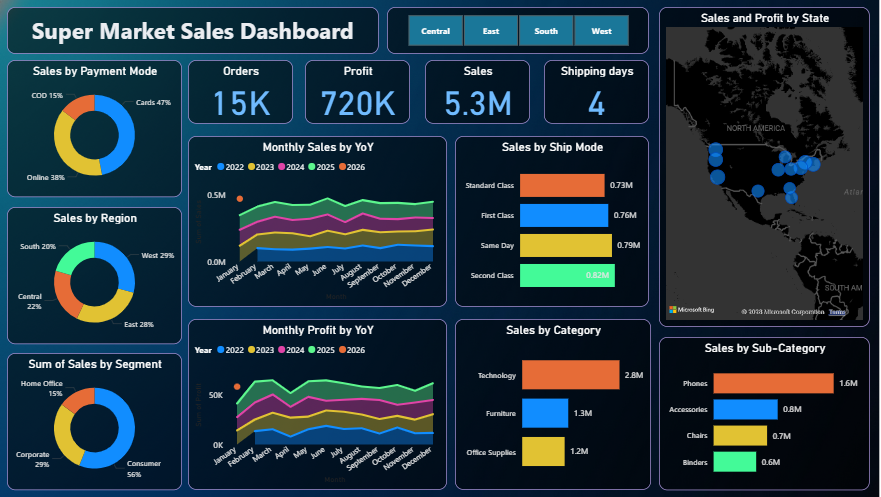

The dashboard page shown, as its layout file describes it:
{"tool":"powerbi","page":{"name":"Monthly View","canvas":[1280,720],"ordinal":0},"visuals":[{"type":"clusteredBarChart","title":"Sales by Category","fields":{"Category":["SuperStore_Sales_Realistic.Category"],"Y":["Sum(SuperStore_Sales_Realistic.Sales)"]},"box":[662.9,457.1,280,244.3],"z":0},{"type":"clusteredBarChart","title":"Sales by Sub-Category","fields":{"Y":["Sum(SuperStore_Sales_Realistic.Sales)"],"Category":["SuperStore_Sales_Realistic.Sub-Category"]},"box":[954.3,482.9,301.4,218.6],"z":1000},{"type":"clusteredBarChart","title":"Sales by Ship Mode","fields":{"Y":["Sum(SuperStore_Sales_Realistic.Sales)"],"Category":["SuperStore_Sales_Realistic.Ship Mode"]},"box":[662.9,195.7,277.1,244.3],"z":2000},{"type":"map","title":"Sales and Profit by State","fields":{"Category":["SuperStore_Sales_Realistic.State"],"Size":["Sum(SuperStore_Sales_Realistic.Sales)"]},"box":[954.3,11.4,301.4,457.1],"z":3000},{"type":"donutChart","fields":{"Category":["SuperStore_Sales_Realistic.Segment"],"Y":["Sum(SuperStore_Sales_Realistic.Sales)"]},"box":[22.9,505.7,250,195.7],"z":4000},{"type":"donutChart","title":"Sales by Region","fields":{"Y":["Sum(SuperStore_Sales_Realistic.Sales)"],"Category":["SuperStore_Sales_Realistic.Region"]},"box":[22.9,297.1,250,195.7],"z":5000},{"type":"donutChart","title":"Sales by Payment Mode","fields":{"Y":["Sum(SuperStore_Sales_Realistic.Sales)"],"Category":["SuperStore_Sales_Realistic.Payment Mode"]},"box":[22.9,87.1,250,195.7],"z":6000},{"type":"slicer","fields":{"Values":["SuperStore_Sales_Realistic.Region"]},"box":[565.7,11.4,374.3,67.1],"z":7000},{"type":"textbox","box":[22.9,11.4,531.4,67.1],"z":8000},{"type":"card","title":"Sales","fields":{"Values":["Sum(SuperStore_Sales_Realistic.Sales)"]},"box":[620,87.1,150,91.4],"z":9000},{"type":"card","title":"Profit","fields":{"Values":["Sum(SuperStore_Sales_Realistic.Profit)"]},"box":[448.6,87.1,150,91.4],"z":10000},{"type":"card","title":"Orders","fields":{"Values":["Sum(SuperStore_Sales_Realistic.Quantity)"]},"box":[281.4,87.1,150,91.4],"z":11000},{"type":"stackedAreaChart","title":"Monthly Sales by YoY","fields":{"Y":["Sum(SuperStore_Sales_Realistic.Sales)"],"Category":["SuperStore_Sales_Realistic.Order Date.Variation.Date Hierarchy.Month"],"Series":["SuperStore_Sales_Realistic.Order Date.Variation.Date Hierarchy.Year"]},"box":[281.4,195.7,370,244.3],"z":12000},{"type":"stackedAreaChart","title":"Monthly Profit by YoY","fields":{"Y":["Sum(SuperStore_Sales_Realistic.Profit)"],"Category":["SuperStore_Sales_Realistic.Order Date.Variation.Date Hierarchy.Month"],"Series":["SuperStore_Sales_Realistic.Order Date.Variation.Date Hierarchy.Year"]},"box":[281.4,457.1,370,244.3],"z":13000},{"type":"card","title":"Shipping days","fields":{"Values":["Avg(SuperStore_Sales_Realistic.AvgDelivery)"]},"box":[790,87.1,150,91.4],"z":14000}]}

Visuals, with their boxes in screenshot pixels (x1, y1, x2, y2), scaled from the page's 1280x720 canvas onto the 881x497 screenshot:
"Sales by Category" clusteredBarChart: [456, 316, 649, 484]
"Sales by Sub-Category" clusteredBarChart: [657, 333, 864, 484]
"Sales by Ship Mode" clusteredBarChart: [456, 135, 647, 304]
"Sales and Profit by State" map: [657, 8, 864, 323]
donutChart - SuperStore_Sales_Realistic.Segment x Sum(SuperStore_Sales_Realistic.Sales): [16, 349, 188, 484]
"Sales by Region" donutChart: [16, 205, 188, 340]
"Sales by Payment Mode" donutChart: [16, 60, 188, 195]
slicer - SuperStore_Sales_Realistic.Region: [389, 8, 647, 54]
textbox: [16, 8, 382, 54]
"Sales" card: [427, 60, 530, 123]
"Profit" card: [309, 60, 412, 123]
"Orders" card: [194, 60, 297, 123]
"Monthly Sales by YoY" stackedAreaChart: [194, 135, 448, 304]
"Monthly Profit by YoY" stackedAreaChart: [194, 316, 448, 484]
"Shipping days" card: [544, 60, 647, 123]
